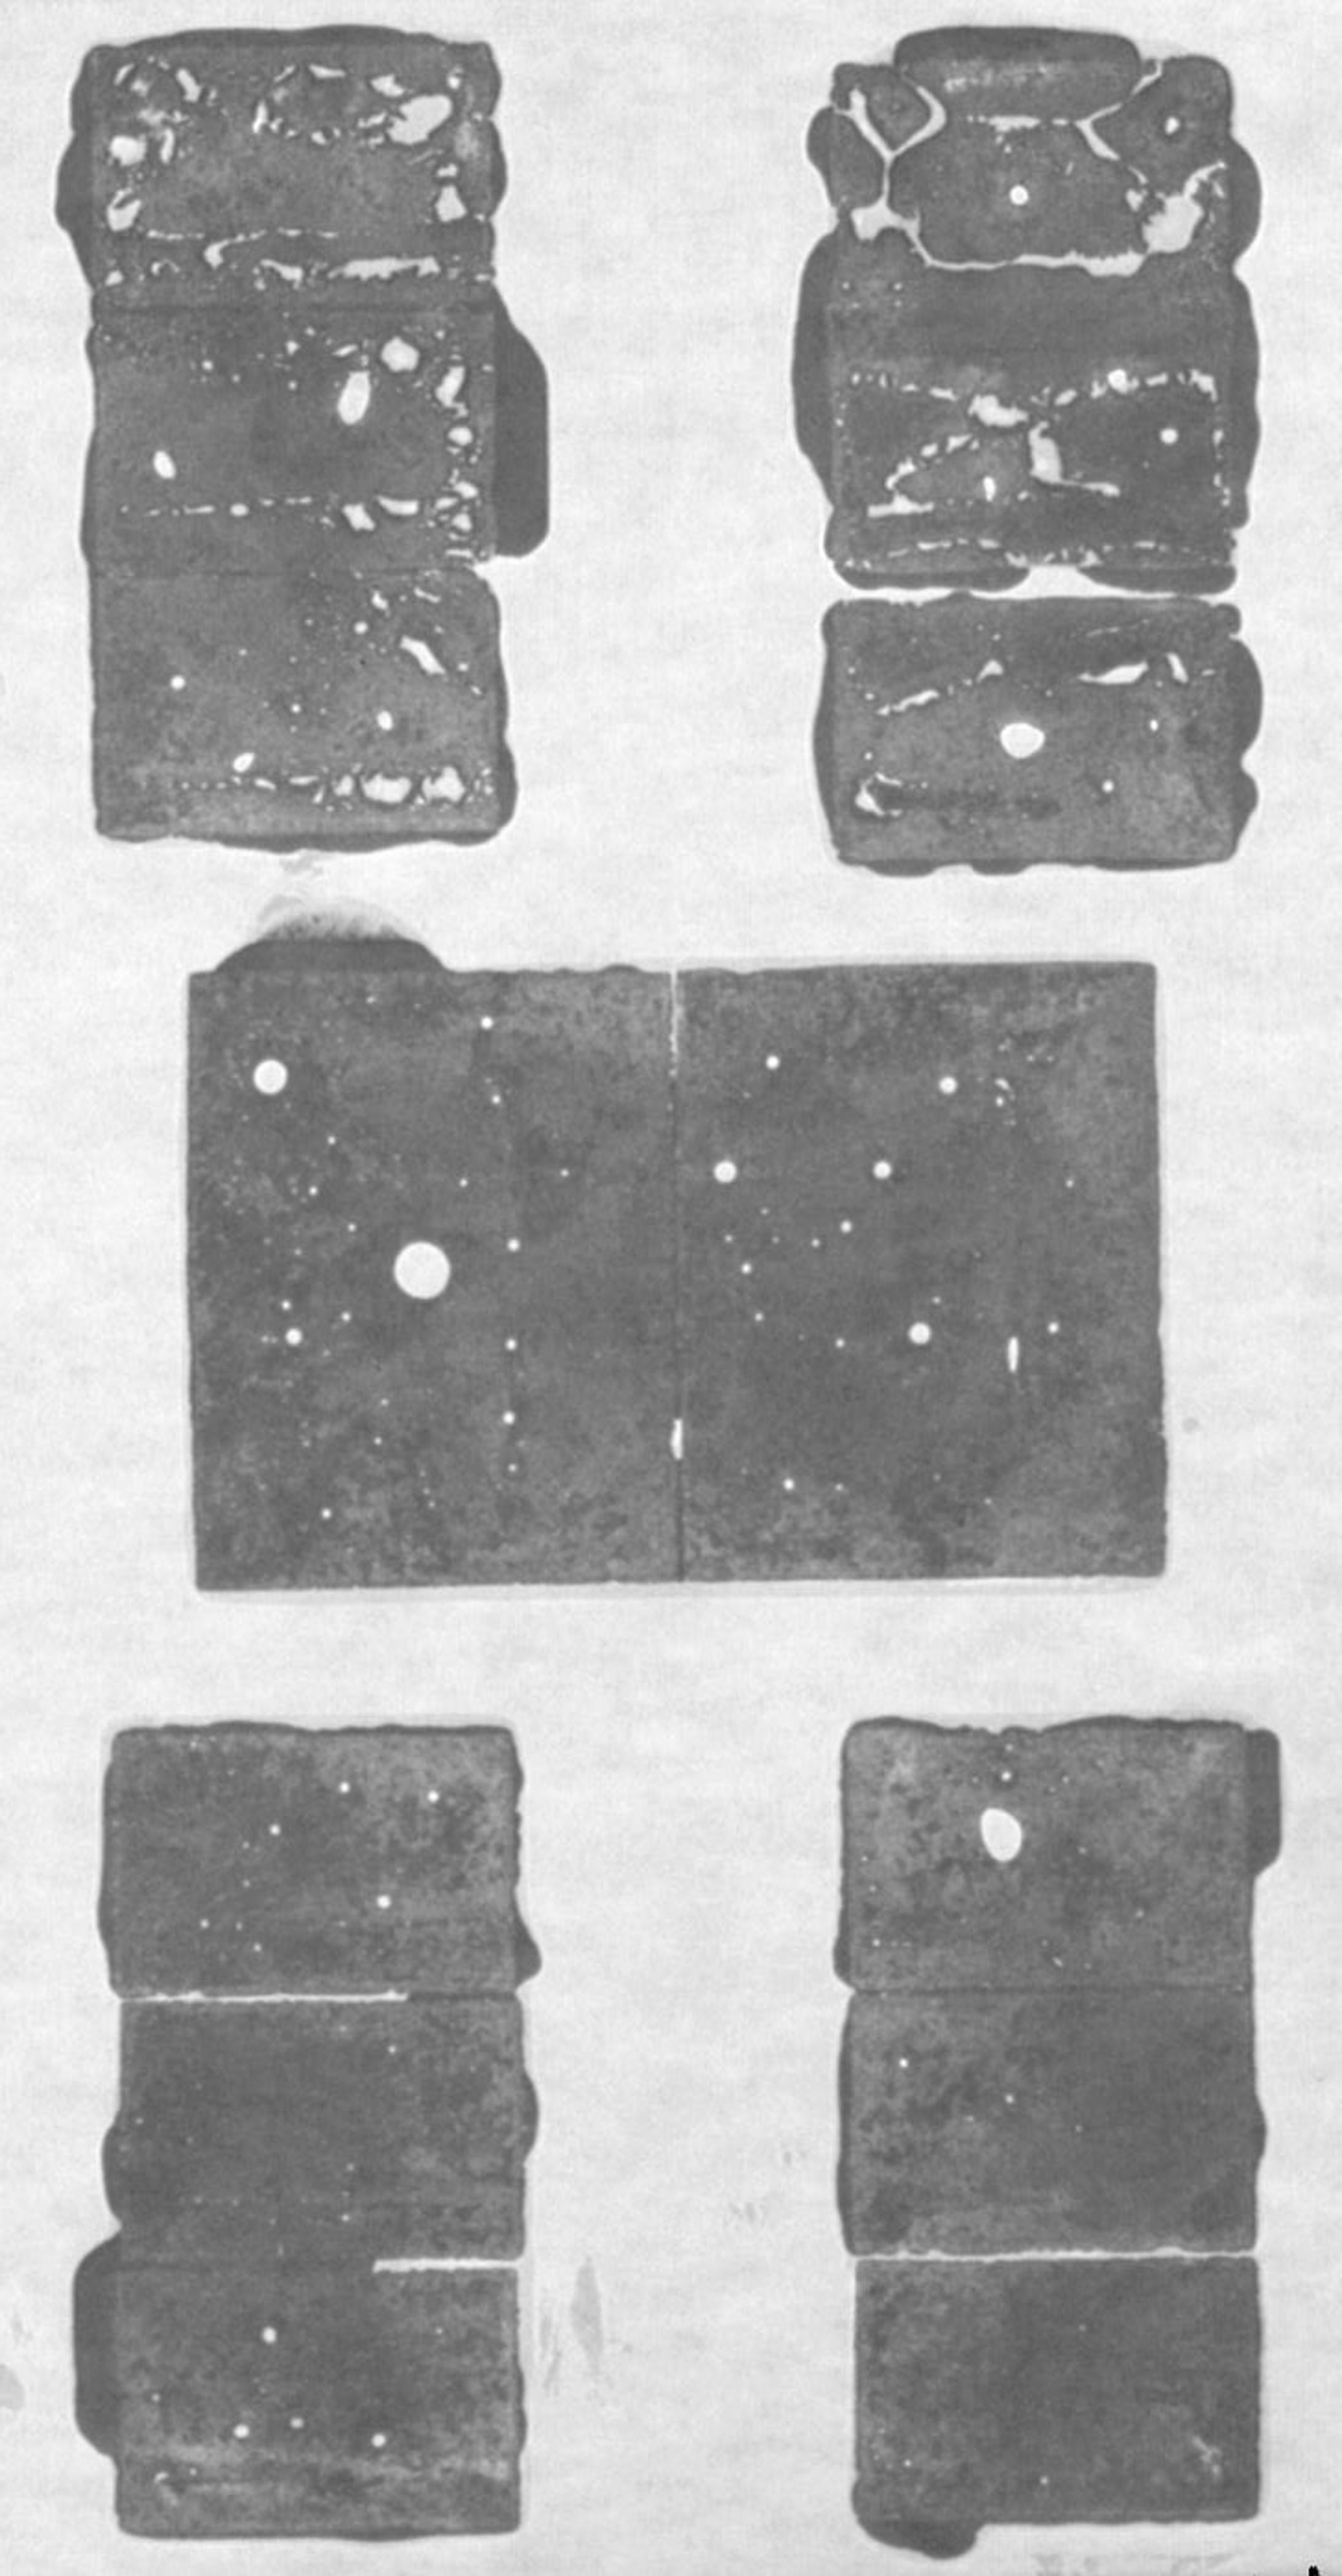CCD: (24, 175, 290, 177), (24, 440, 290, 441), (24, 1820, 290, 1821), (24, 2087, 290, 2089), (914, 175, 1178, 177), (914, 440, 1178, 441), (914, 1820, 1178, 1821), (914, 2087, 1178, 2089), (24, 167, 290, 167), (914, 167, 1178, 167), (24, 2355, 290, 2355), (914, 2355, 1178, 2355)
IOD: (203, 1099, 1149, 1452)
